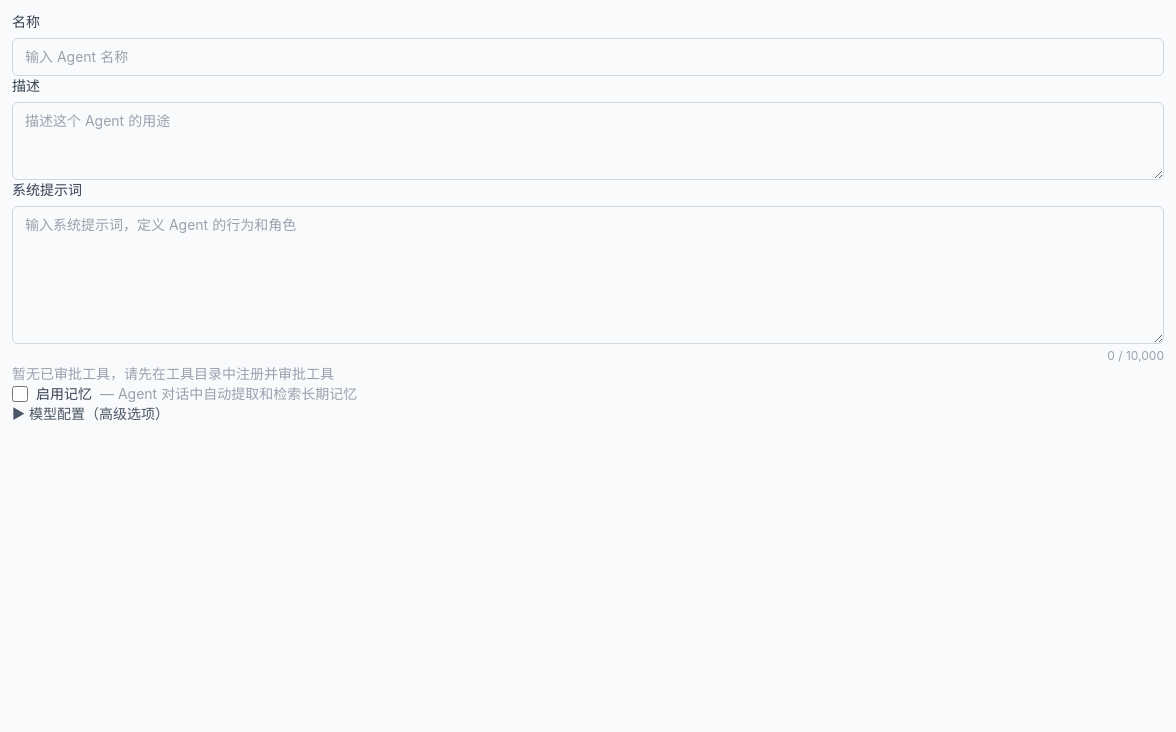
Scenario: AgentFormFields › 点击高级选项按钮应展开高级配置
Click the button "▶ 模型配置（高级选项）": [90, 414] box x1=12 y1=404 x2=169 y2=424
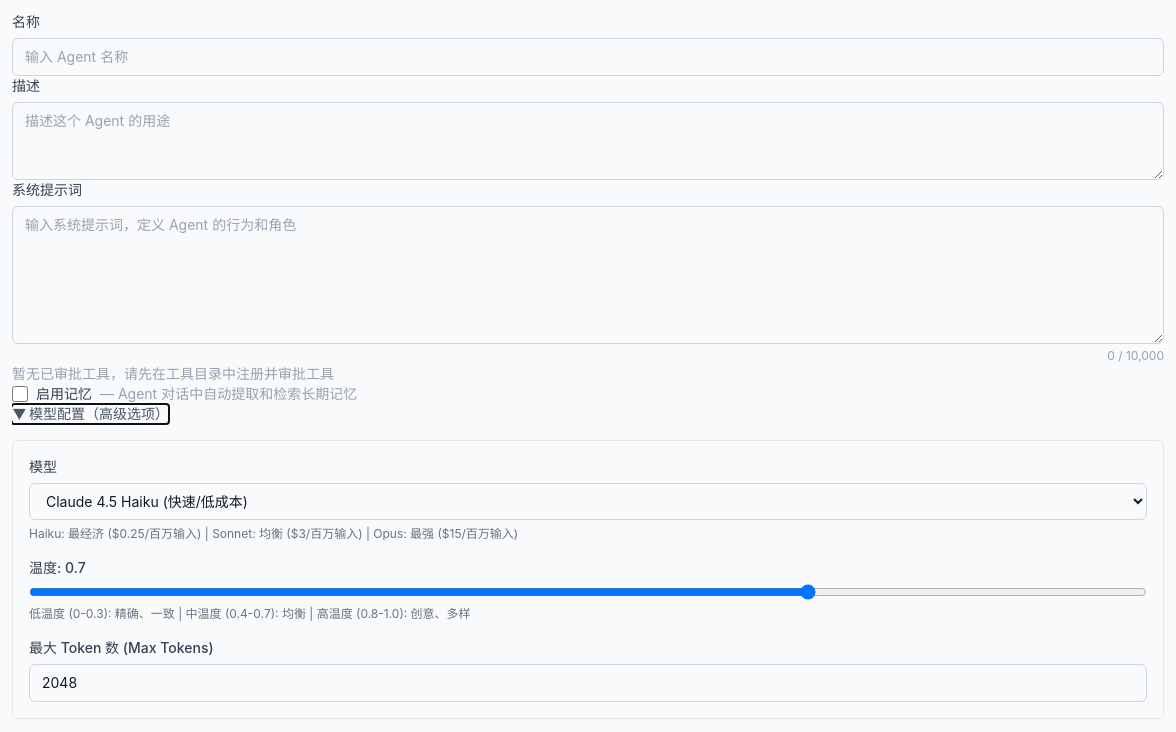
Result: the button "▶ 模型配置（高级选项）" is expanded at x1=12 y1=404 x2=169 y2=424
Result: the dropdown labelled "模型" is shown at x1=29 y1=483 x2=1147 y2=520
Result: the slider labelled "温度: 0.7" is shown at x1=29 y1=584 x2=1147 y2=600
